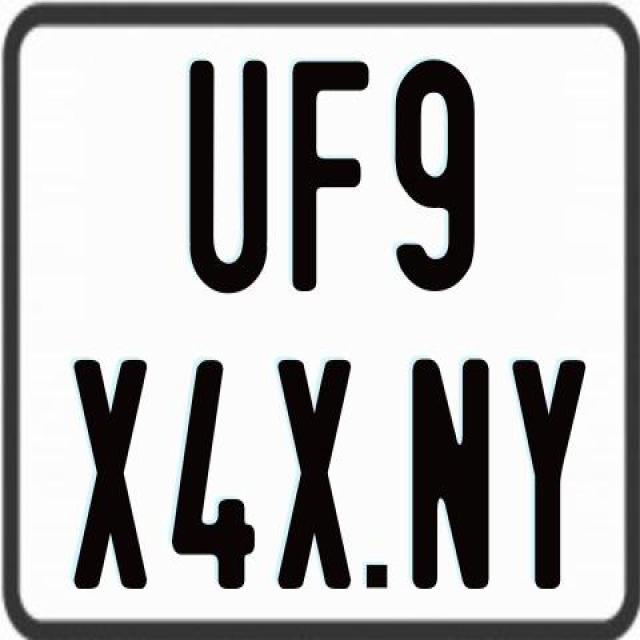4: (168, 360, 254, 595)
9: (390, 59, 470, 296)
F: (290, 56, 374, 290)
N: (408, 354, 487, 588)
U: (189, 58, 271, 299)
X: (276, 356, 355, 590), (74, 357, 150, 596)
Y: (508, 358, 588, 594)
